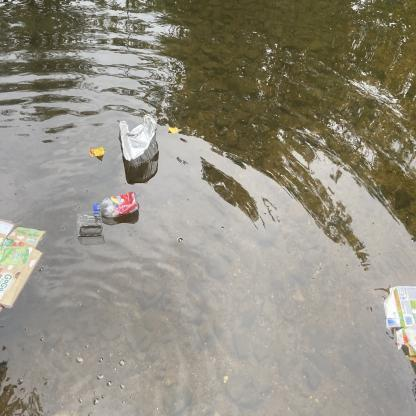trash: (8, 224, 49, 303), (383, 283, 416, 367), (118, 110, 160, 165), (92, 189, 141, 221), (74, 209, 106, 240)
